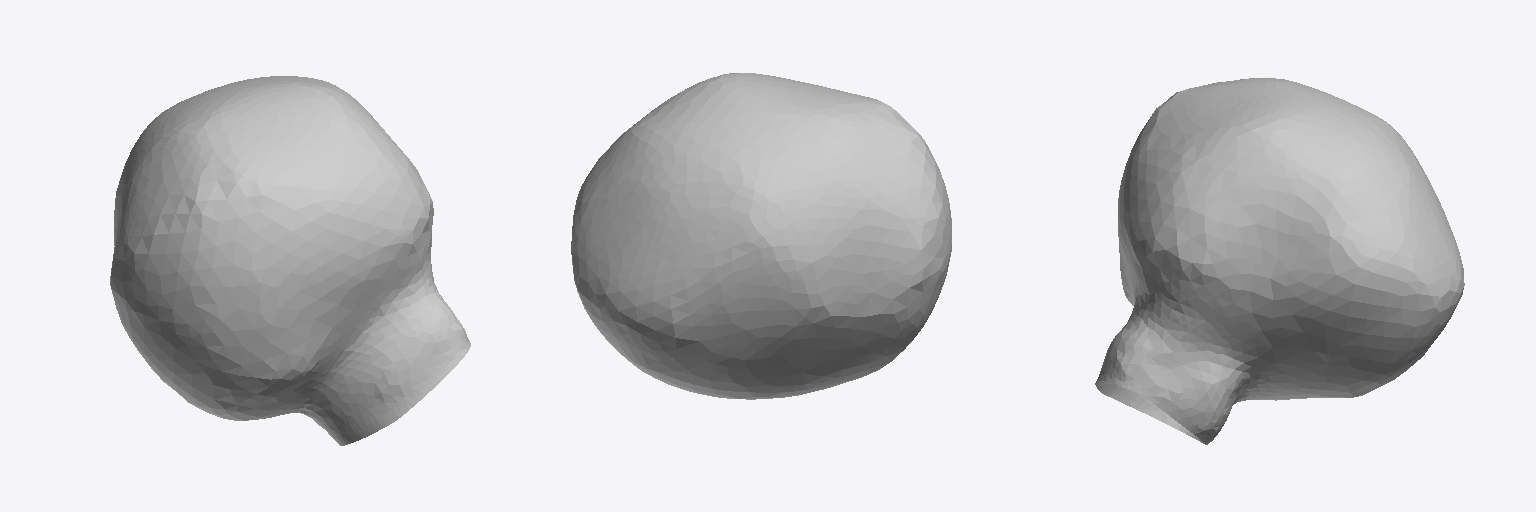
File: Paciente3_ped_str.obj
3 views of the same model, side by side, from view 1: azimuth 30°, elevation 25°; view 2: azimuth 150°, elevation 25°; view 3: azimuth 270°, elevation 25° (orthographic).
Parts seen in each view (by area): view 1: Paciente_3_ped_str; view 2: Paciente_3_ped_str; view 3: Paciente_3_ped_str.
Boxes of the visible parts, x1=… form: Paciente_3_ped_str: x1=110, y1=76, x2=470, y2=445; Paciente_3_ped_str: x1=571, y1=73, x2=951, y2=399; Paciente_3_ped_str: x1=1095, y1=78, x2=1464, y2=444.
Bounding box in the file's own units: 11.43 × 11.55 × 12.12.